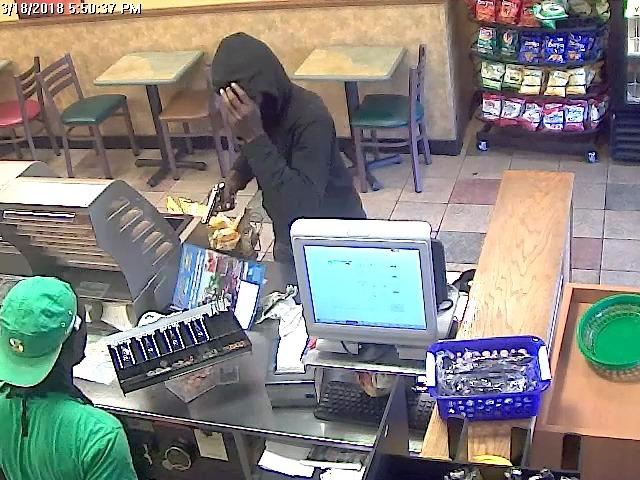weapon: (196, 181, 238, 227)
